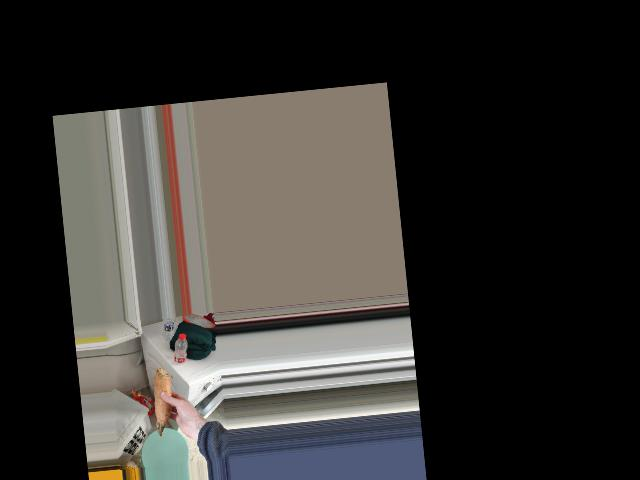sweet_potato: (146, 364, 179, 436)
